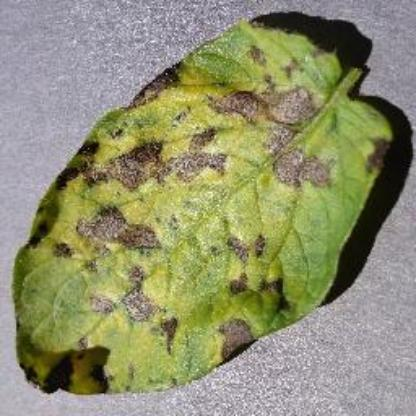Early-Blight: (10, 17, 402, 401)
